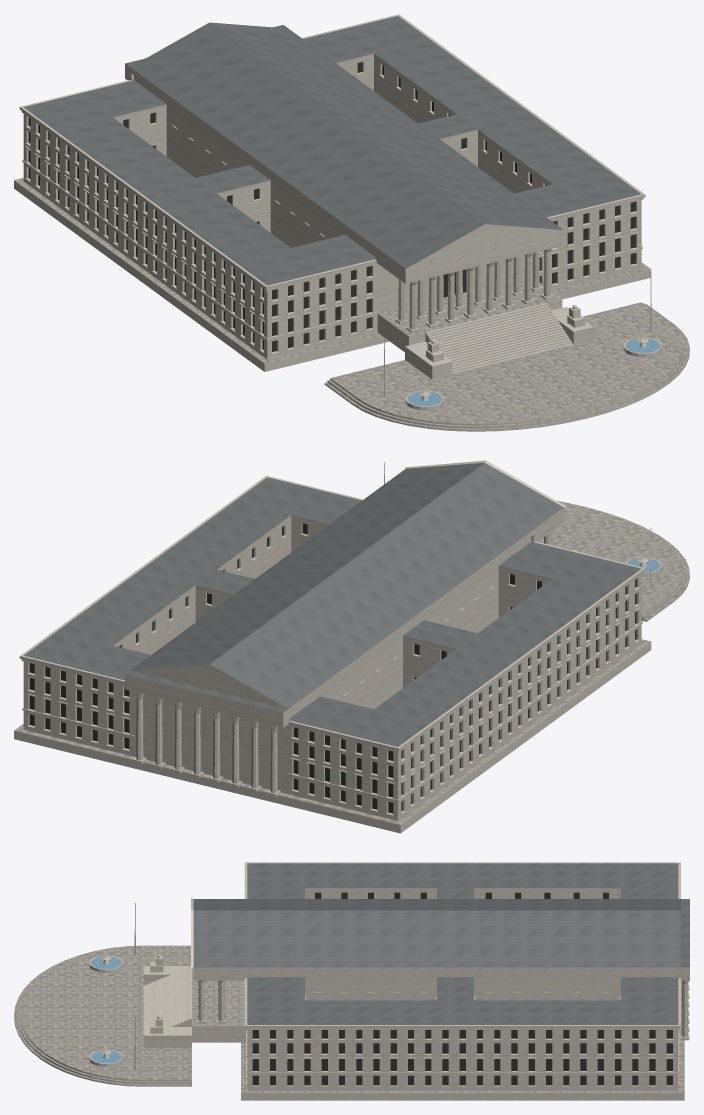
Rendered from supreme_court.glb.
3 renders of one model, top to bottom at view 1: azimuth 30°, elevation 25°; view 2: azimuth 150°, elevation 25°; view 3: azimuth 270°, elevation 25°, orthographic. The views are drawn at different scales.
Visible parts, largest first — view 1: supreme_court; view 2: supreme_court; view 3: supreme_court.
Part boxes in pixels (x1,y1,x2,y2): supreme_court: (14,14,689,431); supreme_court: (14,460,689,833); supreme_court: (14,862,689,1100).
Size of the model in its own units: 95.71 by 28.79 by 164.
Materials: 5 (5 with a texture image).
